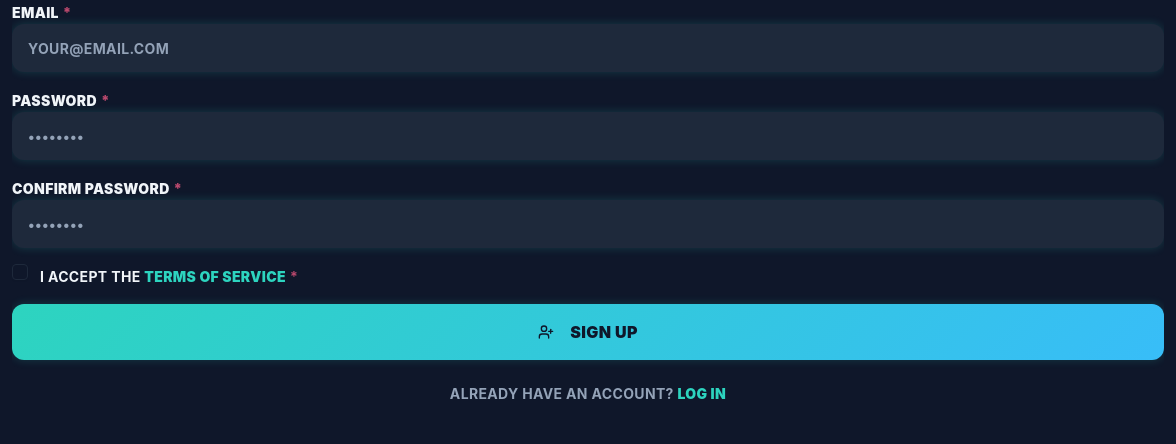
Test case: AuthFormRegister › should require TOS acceptance before submit
Step 1. Type "test@example.com" into the field labelled "Email*" → point(588, 48), box [12, 24, 1164, 72]
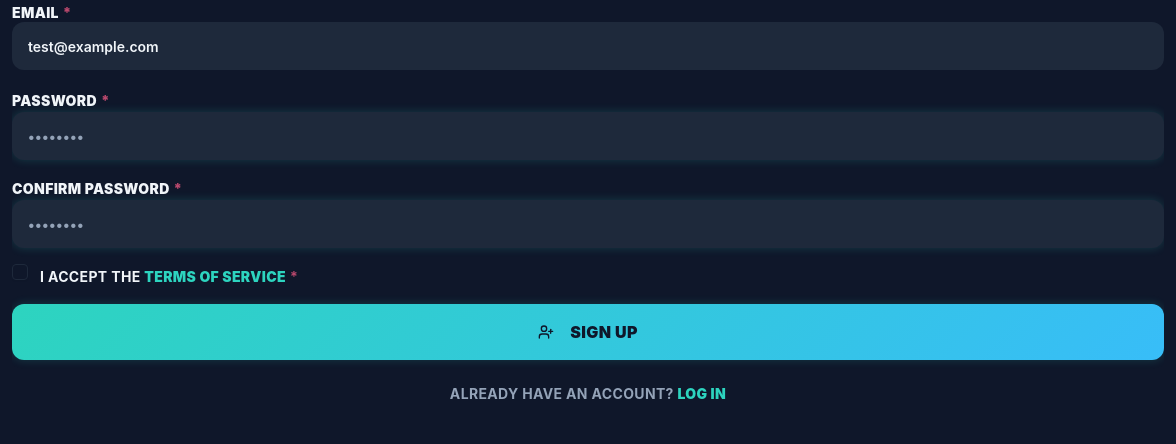
Step 2. Type "password123" into the password field labelled "Password*" → point(588, 136), box [12, 112, 1164, 160]
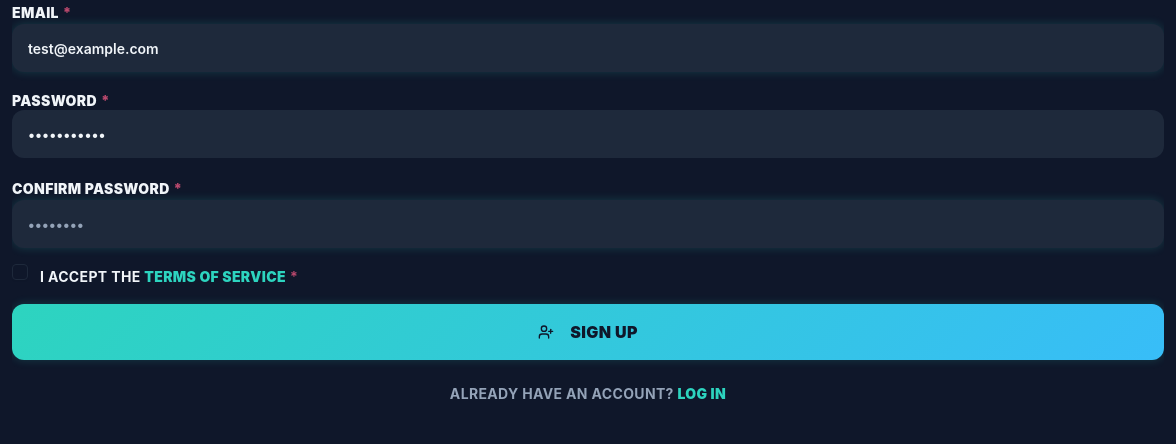
Step 3. Type "password123" into the password field labelled "Confirm Password*" → point(588, 224), box [12, 200, 1164, 248]
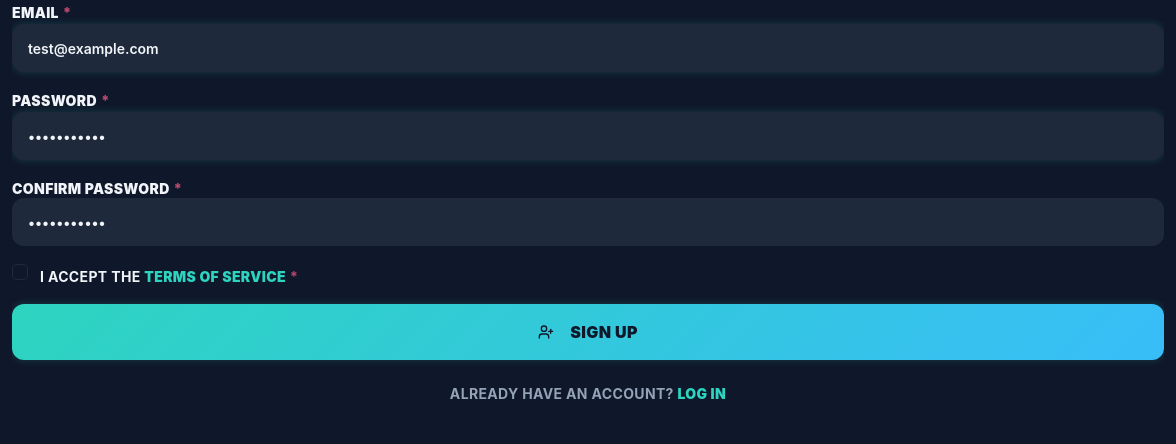
Step 4. Click the button "Sign Up" → point(588, 332), box [12, 304, 1164, 360]
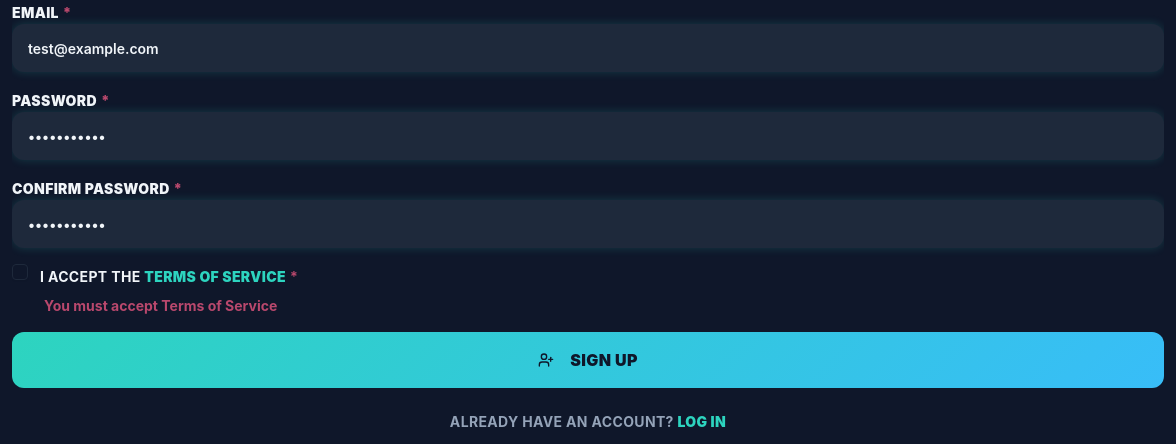
Check: the text "You must accept Terms of Service" is shown, box [44, 297, 277, 314]
